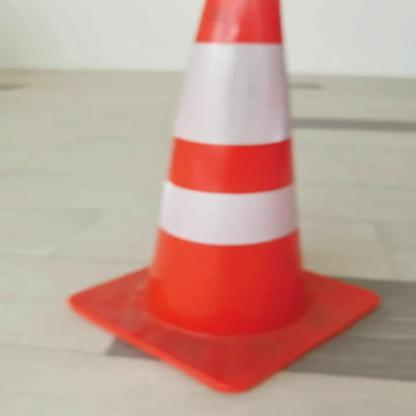cone: (35, 3, 386, 398)
